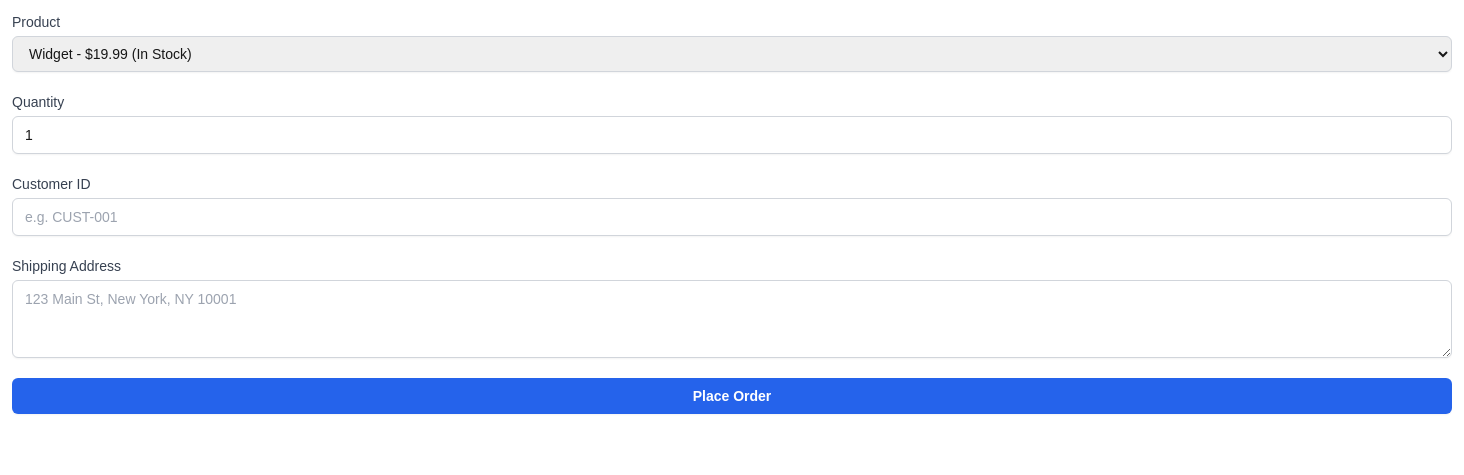
it: OrderForm › shows validation errors when submitting empty required fields
Click the button "Place Order".
click(732, 396)  # box top-left (12, 378), bottom-right (1452, 414)
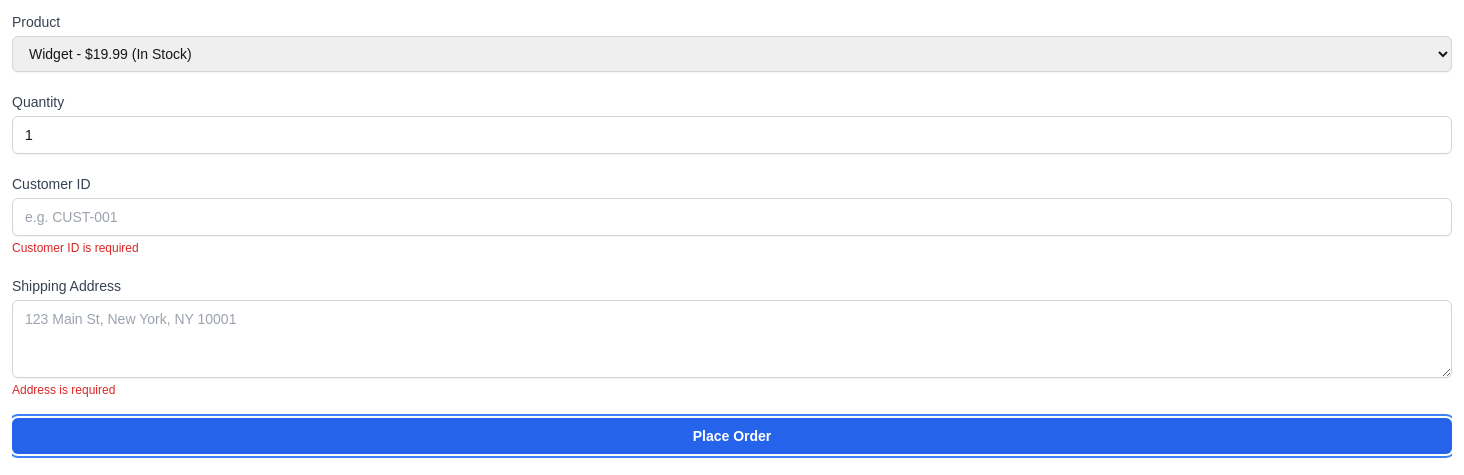
expect the text "Customer ID is required" is shown: met, box top-left (12, 241), bottom-right (139, 255)
expect the text "Address is required" is shown: met, box top-left (12, 383), bottom-right (115, 397)
